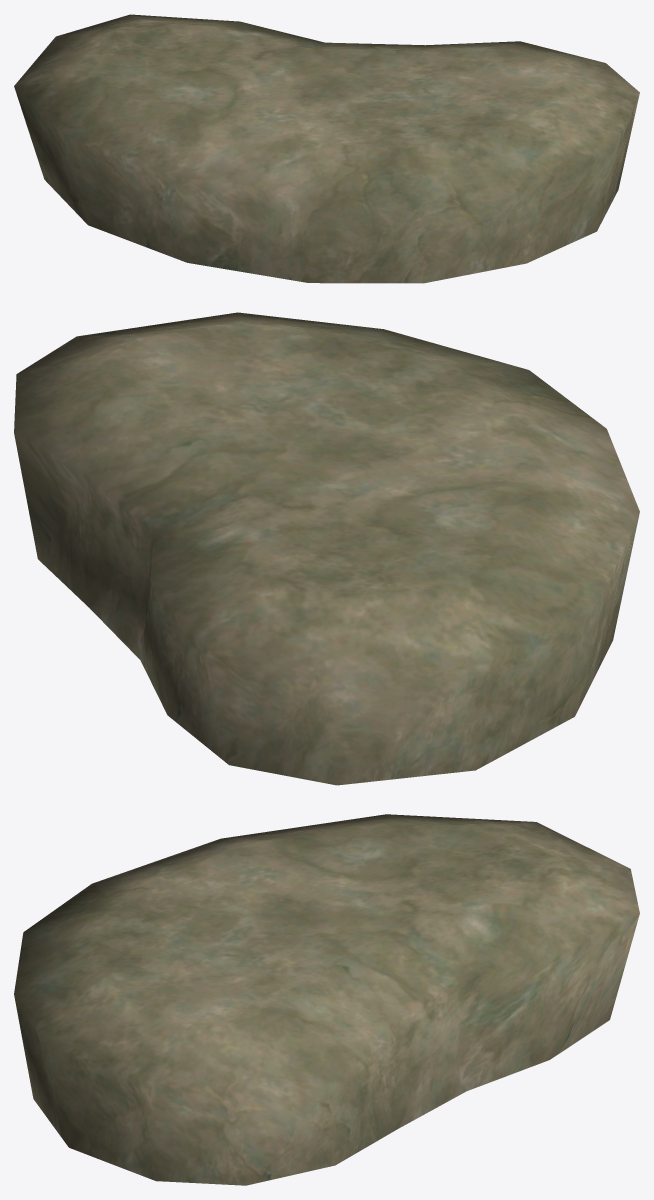
Rendered from EKH_CAVERNS_PS_CA_ROCK_003.fbx.
3 renders of one model, top to bottom at view 1: azimuth 30°, elevation 25°; view 2: azimuth 150°, elevation 25°; view 3: azimuth 270°, elevation 25°, orthographic. The views are drawn at different scales.
Parts seen in each view (by area): view 1: EKH_CAVERNS_PS_CA_ROCK_003; view 2: EKH_CAVERNS_PS_CA_ROCK_003; view 3: EKH_CAVERNS_PS_CA_ROCK_003.
Part boxes in pixels (x1=…): EKH_CAVERNS_PS_CA_ROCK_003: x1=14, y1=14, x2=639, y2=283; EKH_CAVERNS_PS_CA_ROCK_003: x1=14, y1=312, x2=639, y2=785; EKH_CAVERNS_PS_CA_ROCK_003: x1=14, y1=814, x2=639, y2=1185.
Size of the model in its own units: 47772 by 10913 by 46109.
Materials: 1 (1 with a texture image).
